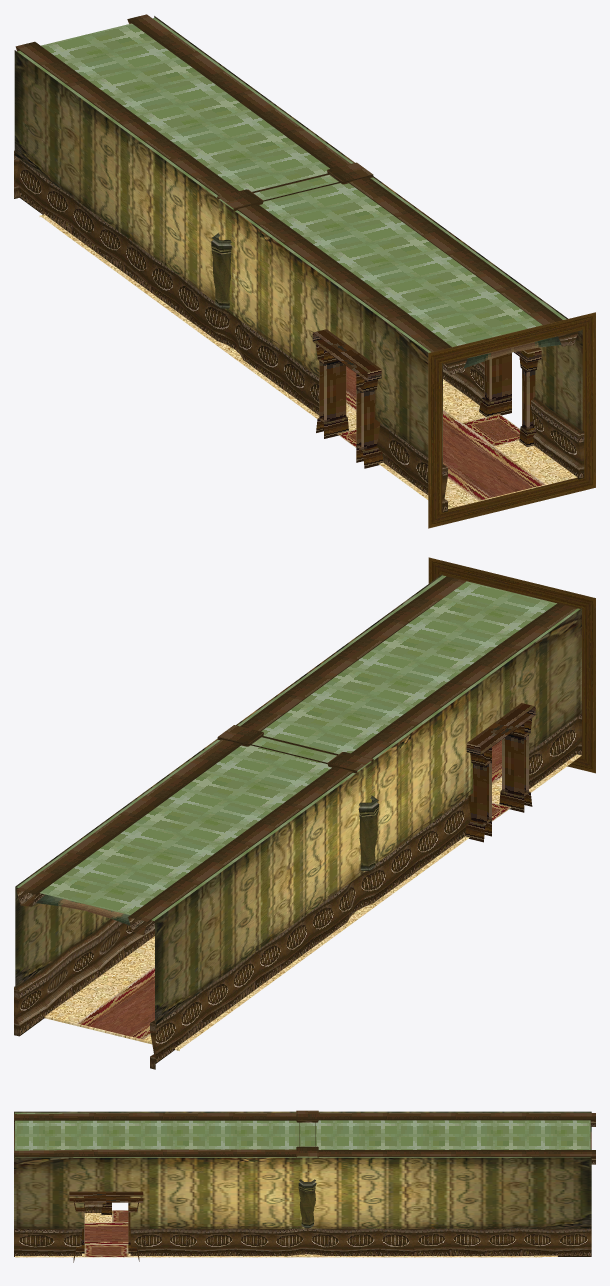
The model's file is room_53.glb.
3 views of the same model, one above another, from view 1: azimuth 30°, elevation 25°; view 2: azimuth 150°, elevation 25°; view 3: azimuth 270°, elevation 25° (orthographic). The views are drawn at different scales.
Parts seen in each view (by area): view 1: room_53; view 2: room_53; view 3: room_53.
Boxes of the visible parts, <box> form: room_53: <box>14,14,595,528</box>; room_53: <box>14,557,595,1069</box>; room_53: <box>14,1110,595,1262</box>.
Size of the model in its own units: 600 by 600 by 2675.
16 materials, 16 textured.
